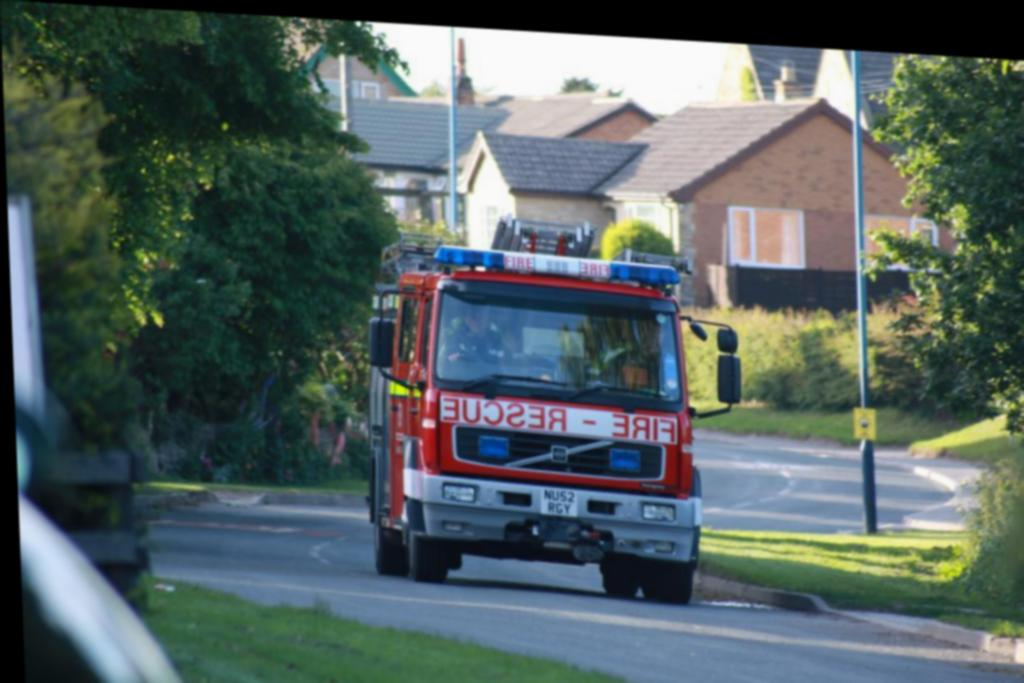License_Plate: (539, 485, 578, 517)
